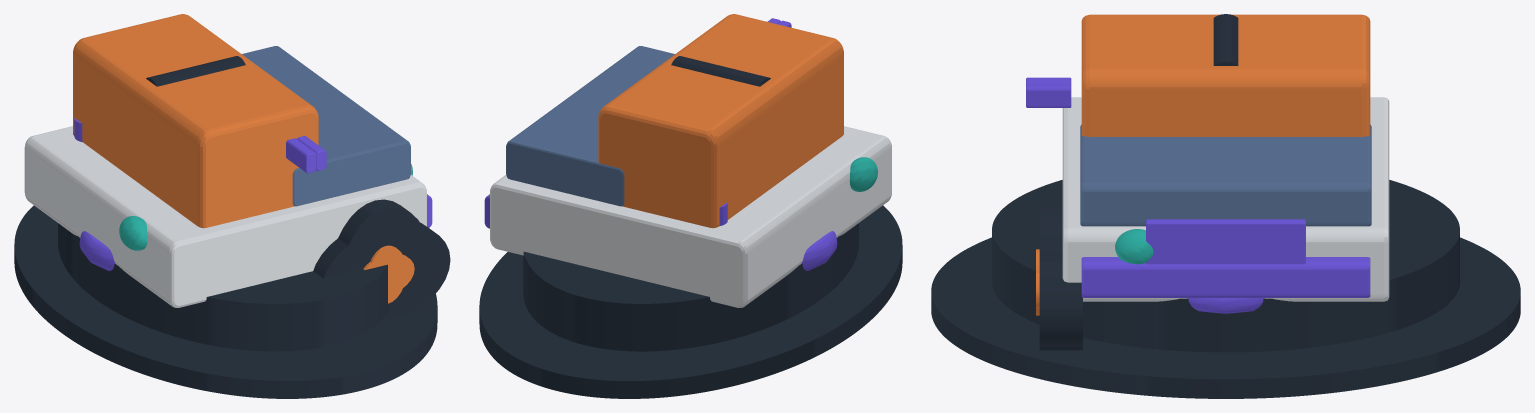
Rendered from 0465_机械图鉴_古典汽车.glb.
3 renders of one model, left to right at view 1: azimuth 30°, elevation 25°; view 2: azimuth 150°, elevation 25°; view 3: azimuth 270°, elevation 25°, orthographic. The views are drawn at different scales.
Parts seen in each view (by area): view 1: card_0465; view 2: card_0465; view 3: card_0465.
Boxes of the visible parts, x1,y1,x2,y2 form: card_0465: (14, 14, 450, 398); card_0465: (479, 14, 902, 398); card_0465: (931, 14, 1520, 398).
Size of the model in its own units: 1.44 by 1 by 2.03.
